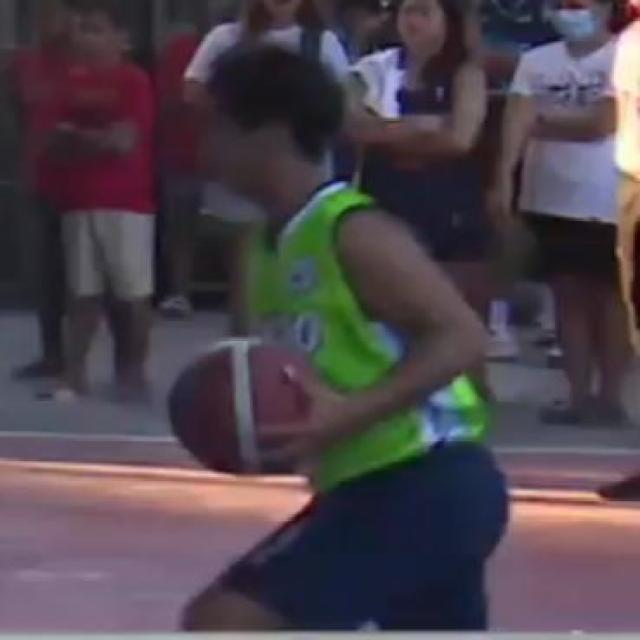Ball: (172, 338, 338, 476)
